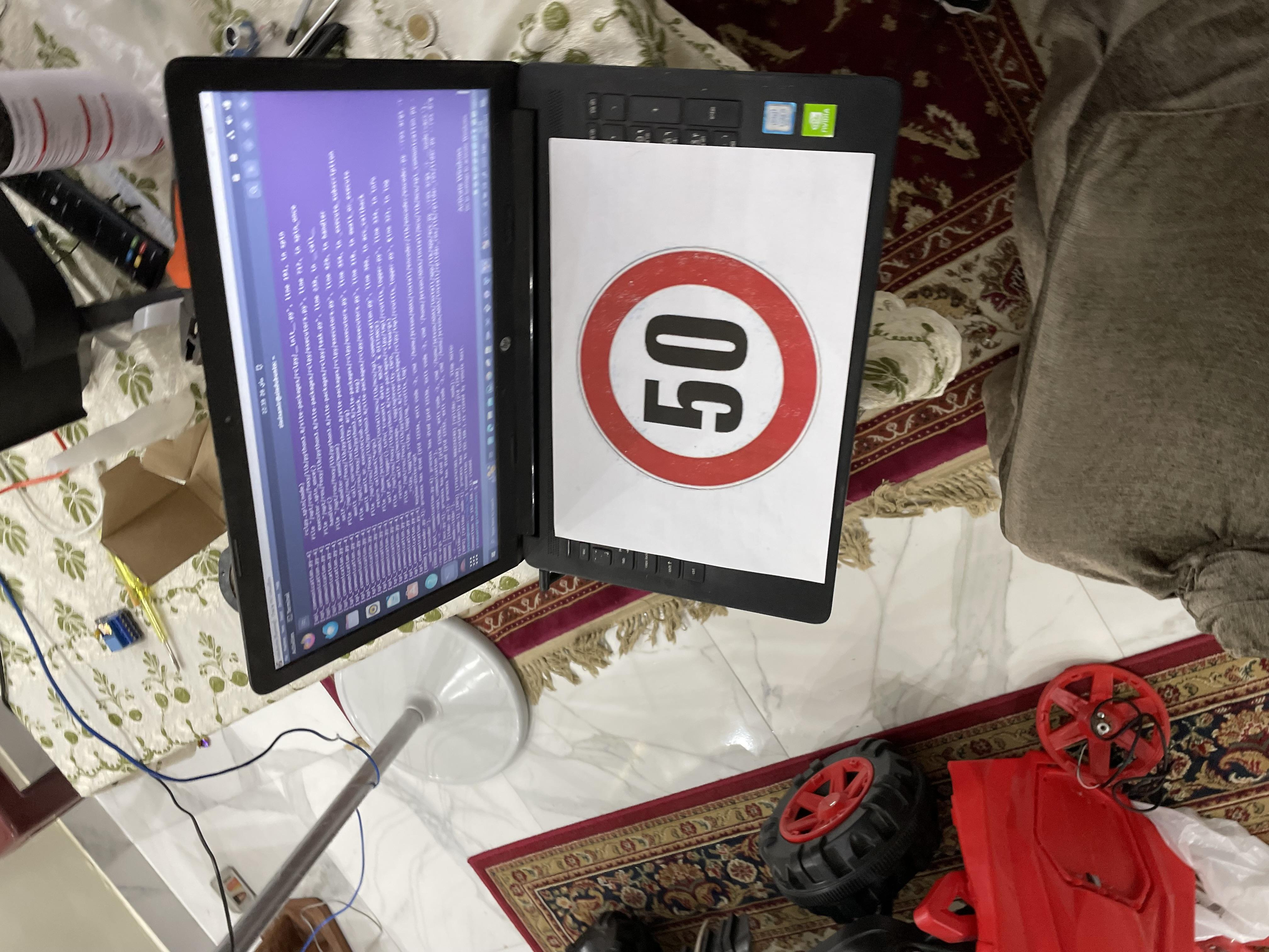50-Speed: (597, 421, 949, 628)
